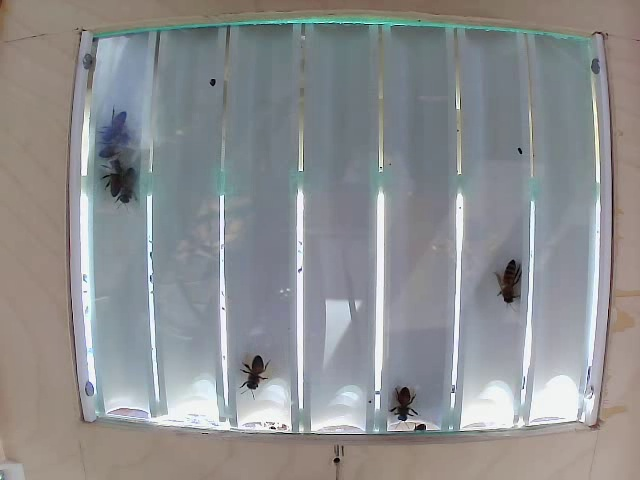bee: (94, 109, 136, 148), (484, 262, 520, 303), (102, 165, 138, 202), (382, 383, 416, 421), (241, 348, 272, 387)
